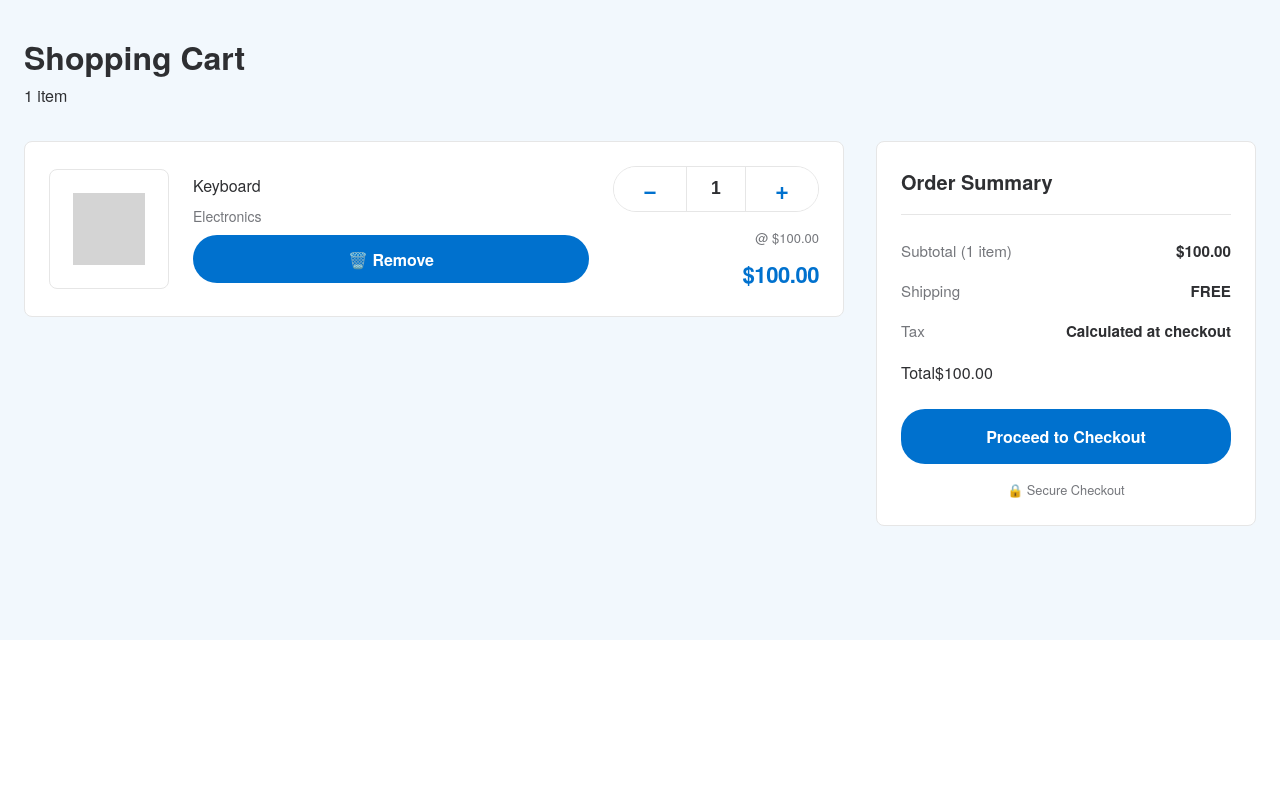
Test: Cart Integration Tests › updates quantity and recalculates total when quantity is changed
The width and height of the screenshot is (1280, 800).
Expected: the text "$100.00" in the row of "Subtotal (" is shown, [1184,240,1231,262]
Find the quantity input and increase it
Replace the text in the number field showing "1" with "3" at point(716, 189), box [686,167,746,211]
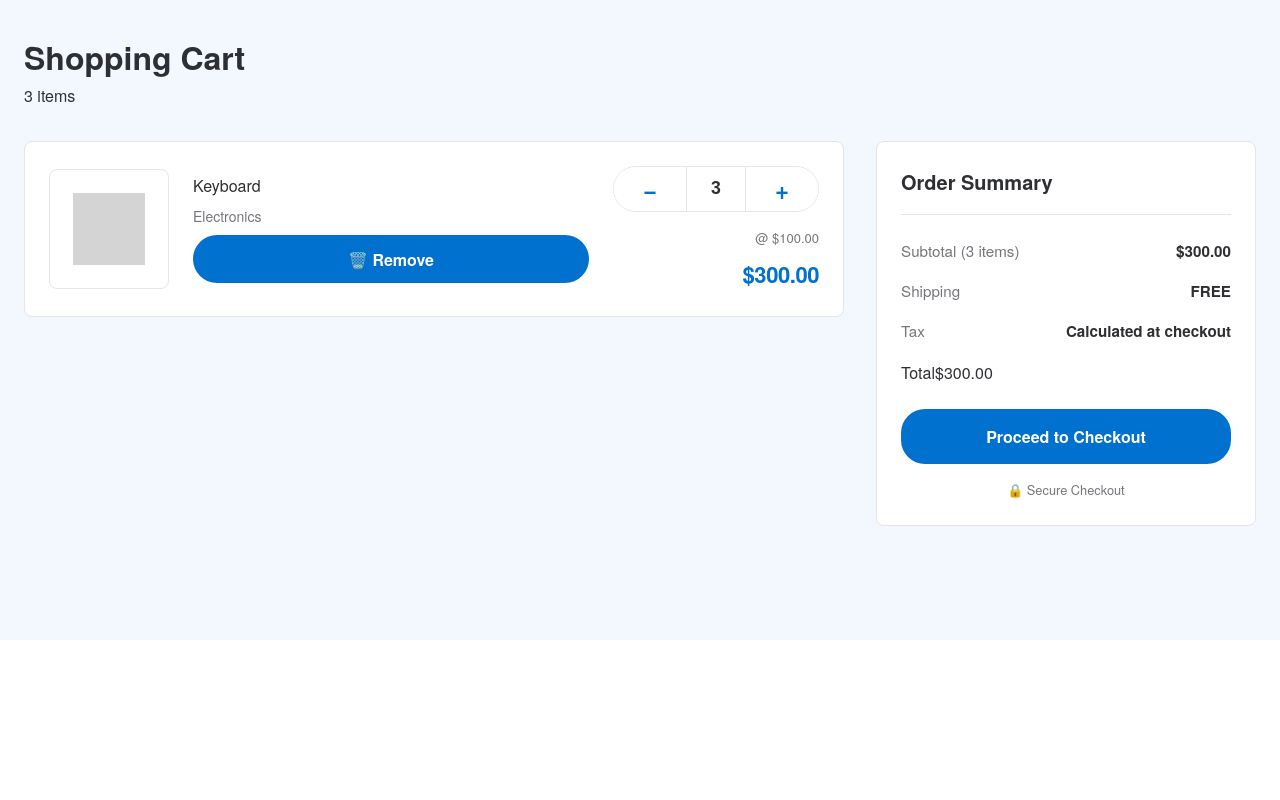
Result: the text "$300.00" in the row of "Subtotal (" is shown at [1184,240,1231,262]
